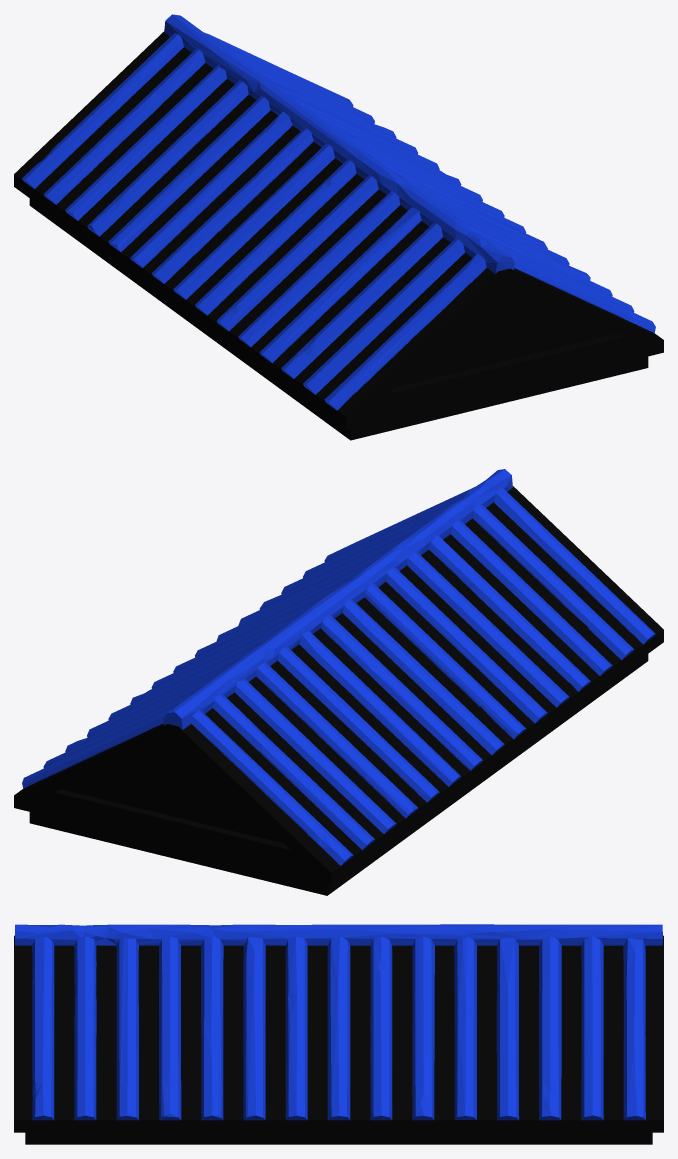
File: standard_rooftop_2.FBX
3 renders of one model, top to bottom at view 1: azimuth 30°, elevation 25°; view 2: azimuth 150°, elevation 25°; view 3: azimuth 270°, elevation 25°, orthographic. The views are drawn at different scales.
Parts seen in each view (by area): view 1: standard_rooftop_2; view 2: standard_rooftop_2; view 3: standard_rooftop_2.
Boxes of the visible parts, x1,y1,x2,y2 form: standard_rooftop_2: (14,14,663,440); standard_rooftop_2: (14,469,663,895); standard_rooftop_2: (14,924,663,1144).
Bounding box in the file's own units: 572 × 255 × 1010.
